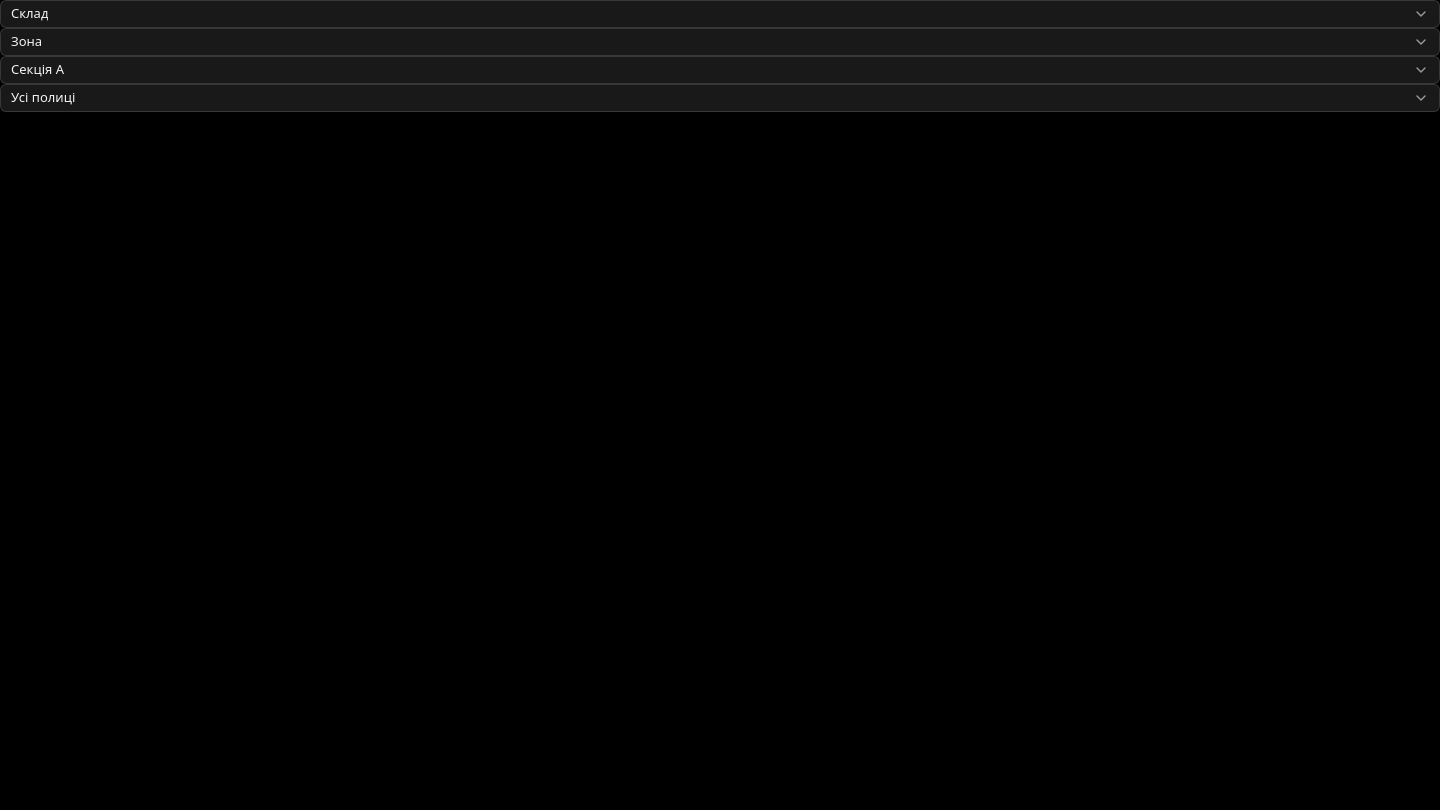
loads only the selected parents and searches 100 shelves with the shared dropdown
This screenshot has width=1440, height=810.
Click the button named "Полиця" at (43, 97), box [0,84,1439,112]
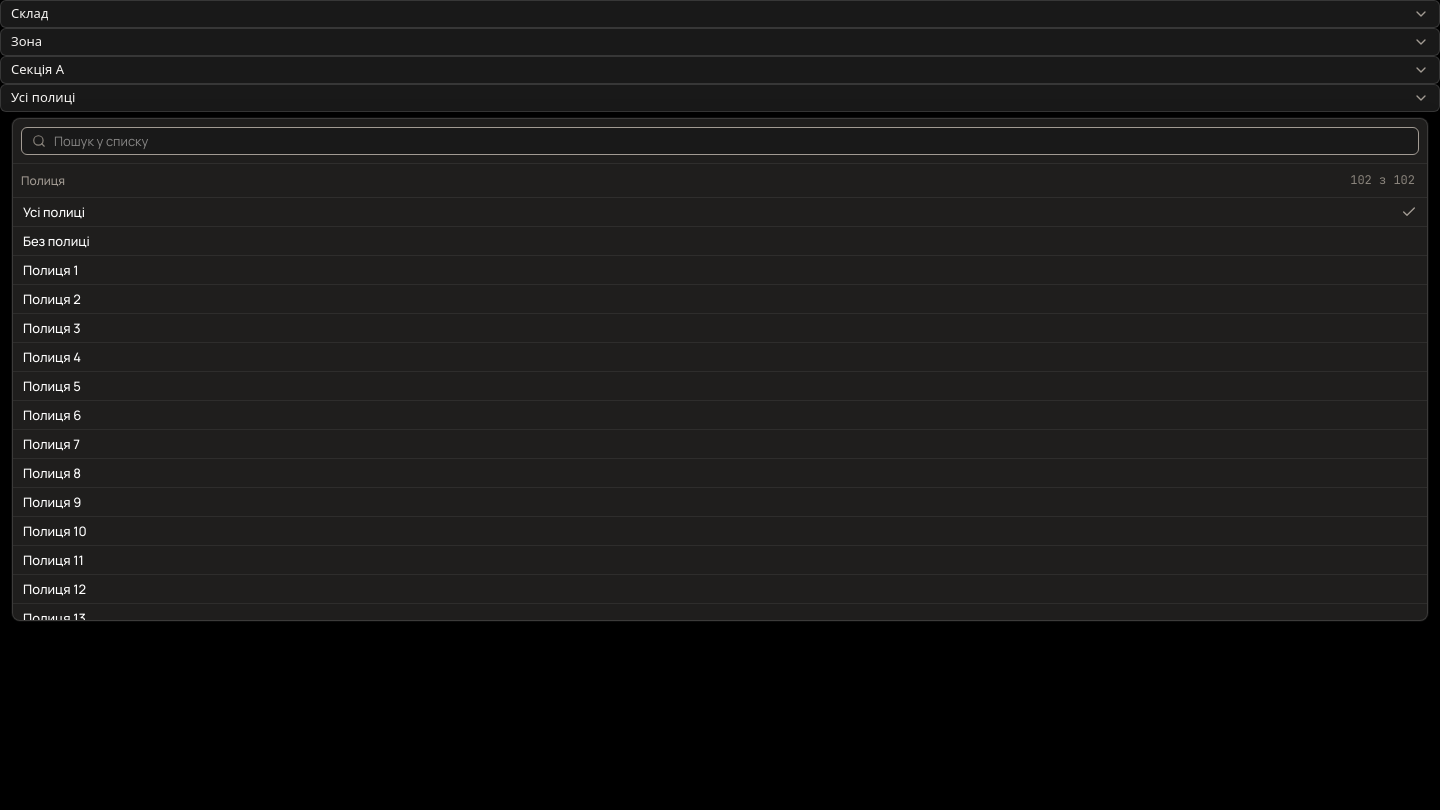
Type "P100" into the search field at (731, 141), box [54,132,1408,150]
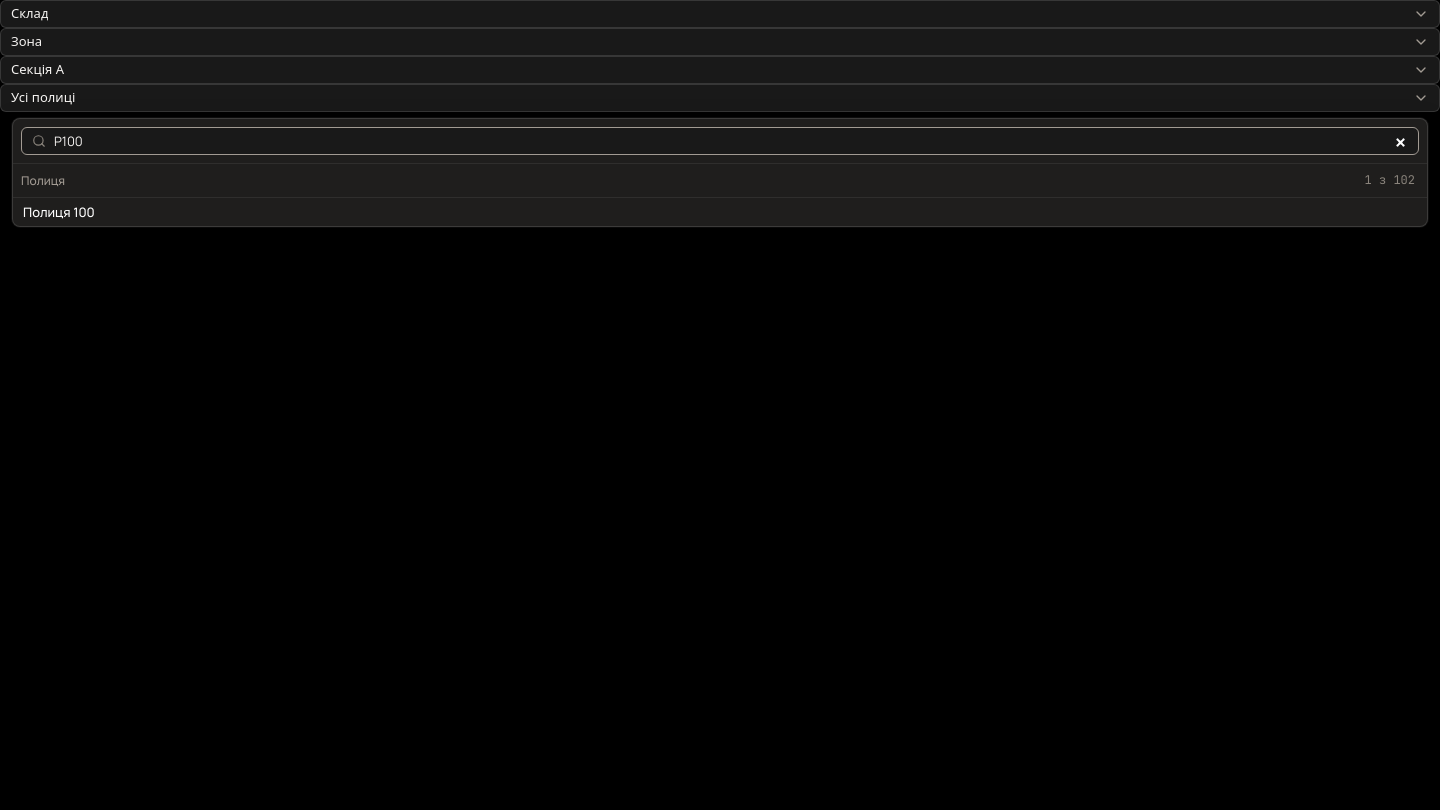
Click the option "Полиця 100" at (59, 212), box [13,198,1427,226]
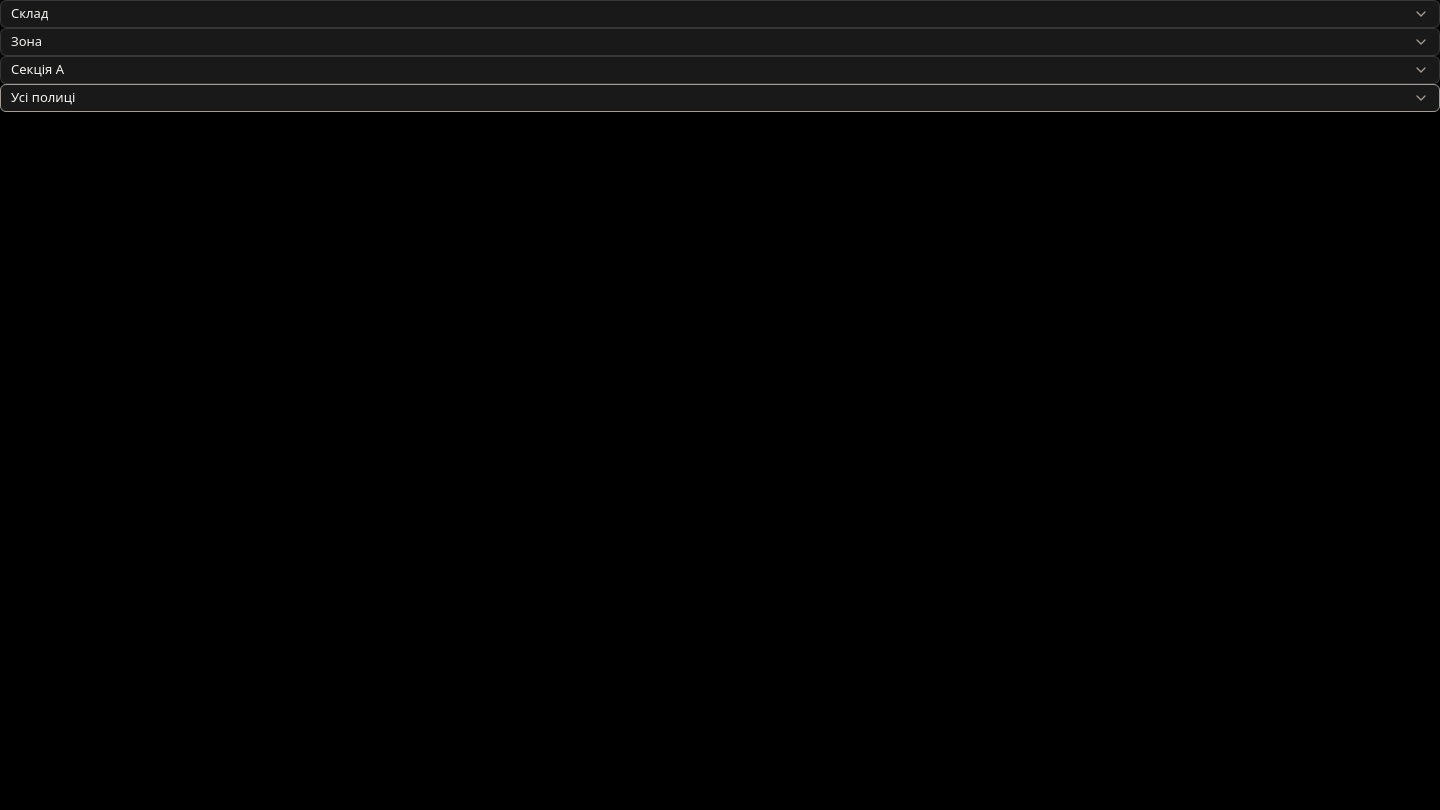
expect the list is gone: met
